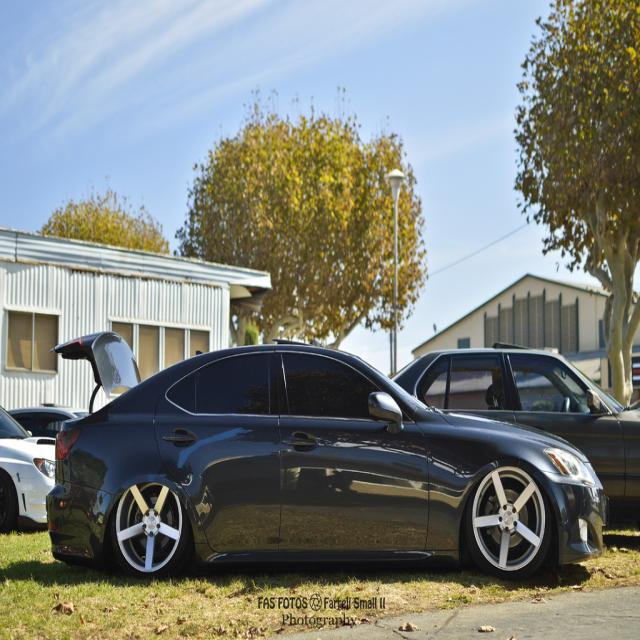car: (43, 329, 608, 582)
